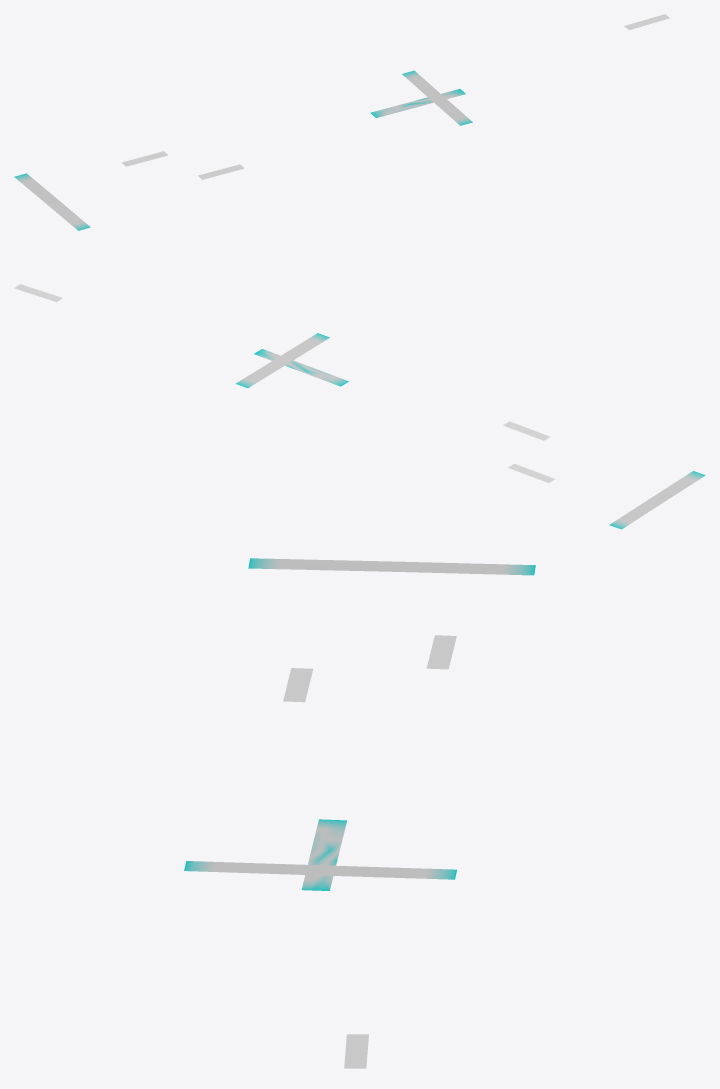
The model's file is cell_182_99.fbx.
The picture shows the model from 3 angles, top to bottom: view 1: azimuth 30°, elevation 25°; view 2: azimuth 150°, elevation 25°; view 3: azimuth 270°, elevation 25°; orthographic projection. The views are drawn at different scales.
Visible parts, largest first — view 1: SpaceCenter_Long3_GenerateRoad_Asphalt_PCGMesh_Decal_Mesh_x., SpaceCenter_Long3_GenerateRoad_Asphalt_PCGMesh_Decal_Mesh_x1, SpaceCenter_Long3_GenerateRoad_JTDecal_Asphalt_BM_Line_Mesh.; view 2: SpaceCenter_Long3_GenerateRoad_Asphalt_PCGMesh_Decal_Mesh_x., SpaceCenter_Long3_GenerateRoad_Asphalt_PCGMesh_Decal_Mesh_x1, SpaceCenter_Long3_GenerateRoad_JTDecal_Asphalt_BM_Line_Mesh.; view 3: SpaceCenter_Long3_GenerateRoad_Asphalt_PCGMesh_Decal_Mesh_x., SpaceCenter_Long3_GenerateRoad_Asphalt_PCGMesh_Decal_Mesh_x1, SpaceCenter_Long3_GenerateRoad_JTDecal_Asphalt_BM_Line_Mesh..
Boxes of the visible parts, x1=… form: SpaceCenter_Long3_GenerateRoad_Asphalt_PCGMesh_Decal_Mesh_x.: x1=370, y1=70, x2=465, y2=117; SpaceCenter_Long3_GenerateRoad_Asphalt_PCGMesh_Decal_Mesh_x1: x1=14, y1=173, x2=90, y2=230; SpaceCenter_Long3_GenerateRoad_JTDecal_Asphalt_BM_Line_Mesh.: x1=121, y1=14, x2=669, y2=179; SpaceCenter_Long3_GenerateRoad_Asphalt_PCGMesh_Decal_Mesh_x.: x1=235, y1=342, x2=348, y2=388; SpaceCenter_Long3_GenerateRoad_Asphalt_PCGMesh_Decal_Mesh_x1: x1=609, y1=471, x2=705, y2=529; SpaceCenter_Long3_GenerateRoad_JTDecal_Asphalt_BM_Line_Mesh.: x1=14, y1=284, x2=555, y2=482; SpaceCenter_Long3_GenerateRoad_Asphalt_PCGMesh_Decal_Mesh_x.: x1=231, y1=819, x2=456, y2=890; SpaceCenter_Long3_GenerateRoad_Asphalt_PCGMesh_Decal_Mesh_x1: x1=248, y1=558, x2=535, y2=575; SpaceCenter_Long3_GenerateRoad_JTDecal_Asphalt_BM_Line_Mesh.: x1=283, y1=635, x2=456, y2=1068.
Bounding box in the file's own units: 50.7 × 3.56 × 12.4.
